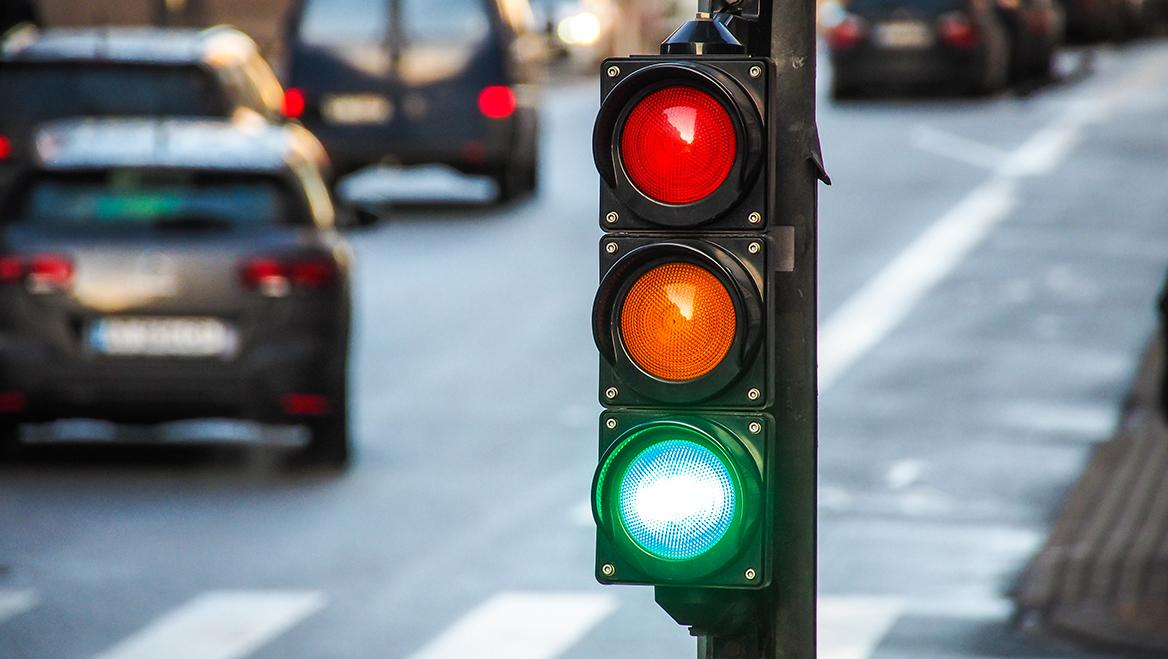traffic light: (561, 31, 844, 628)
